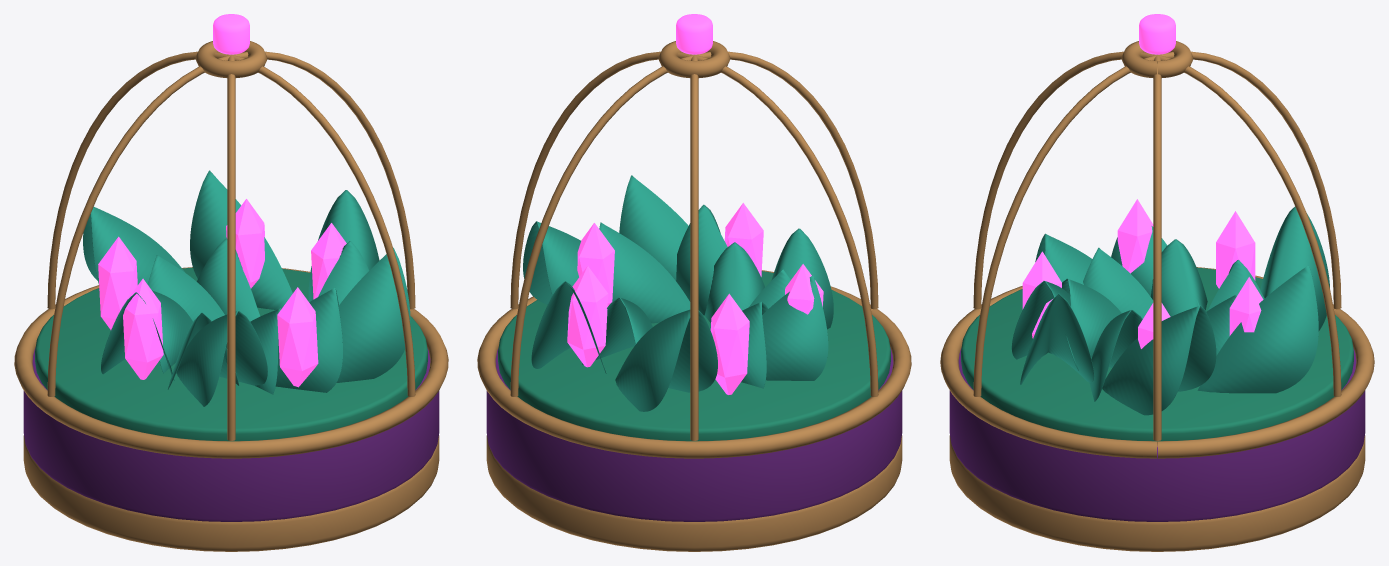
The model's file is terrarium.glb.
3 renders of one model, left to right at view 1: azimuth 30°, elevation 25°; view 2: azimuth 150°, elevation 25°; view 3: azimuth 270°, elevation 25°, orthographic.
Visible parts, largest first — view 1: Plum bowl, Moss bed, Terrarium foot, Bowl rim, Terrarium frond.002, Terrarium frond.004, Terrarium frond.008, Dome brass rib.004, Dome brass rib.003, Dome brass rib.005, Terrarium frond.011, Glowing rose crystal.002 (+17 smaller); view 2: Plum bowl, Moss bed, Terrarium foot, Bowl rim, Terrarium frond.011, Terrarium frond.001, Terrarium frond.010, Terrarium frond.002, Dome brass rib.002, Dome brass rib.001, Dome brass rib.003, Glowing rose crystal.003 (+16 smaller); view 3: Plum bowl, Moss bed, Terrarium foot, Bowl rim, Terrarium frond.008, Terrarium frond.005, Dome brass rib, Dome brass rib.001, Dome brass rib.005, Terrarium frond.002, Terrarium frond.011, Dome brass rib.002 (+17 smaller).
Part boxes in pixels (x1=…): Plum bowl: x1=23, y1=347, x2=439, y2=521; Moss bed: x1=35, y1=267, x2=427, y2=441; Terrarium foot: x1=23, y1=435, x2=439, y2=551; Bowl rim: x1=14, y1=267, x2=448, y2=458; Terrarium frond.002: x1=336, y1=247, x2=410, y2=382; Terrarium frond.004: x1=176, y1=310, x2=267, y2=406; Terrarium frond.008: x1=190, y1=170, x2=292, y2=309; Dome brass rib.004: x1=227, y1=55, x2=235, y2=440; Dome brass rib.003: x1=47, y1=55, x2=230, y2=396; Dome brass rib.005: x1=232, y1=55, x2=415, y2=396; Terrarium frond.011: x1=83, y1=207, x2=184, y2=284; Glowing rose crystal.002: x1=277, y1=287, x2=318, y2=387; Plum bowl: x1=486, y1=347, x2=902, y2=521; Moss bed: x1=498, y1=271, x2=890, y2=441; Terrarium foot: x1=486, y1=435, x2=902, y2=551; Bowl rim: x1=477, y1=270, x2=911, y2=458; Terrarium frond.011: x1=615, y1=309, x2=717, y2=411; Terrarium frond.001: x1=762, y1=275, x2=828, y2=380; Terrarium frond.010: x1=599, y1=222, x2=690, y2=323; Terrarium frond.002: x1=619, y1=175, x2=688, y2=280; Dome brass rib.002: x1=690, y1=55, x2=698, y2=440; Dome brass rib.001: x1=510, y1=55, x2=693, y2=396; Dome brass rib.003: x1=695, y1=55, x2=878, y2=396; Glowing rose crystal.003: x1=567, y1=266, x2=608, y2=367; Plum bowl: x1=949, y1=348, x2=1365, y2=521; Moss bed: x1=961, y1=267, x2=1353, y2=441; Terrarium foot: x1=949, y1=435, x2=1365, y2=551; Bowl rim: x1=940, y1=267, x2=1374, y2=458; Terrarium frond.008: x1=1197, y1=265, x2=1318, y2=393; Terrarium frond.005: x1=1102, y1=305, x2=1216, y2=415; Dome brass rib: x1=1153, y1=55, x2=1161, y2=440; Dome brass rib.001: x1=1158, y1=55, x2=1341, y2=396; Dome brass rib.005: x1=973, y1=55, x2=1156, y2=396; Terrarium frond.002: x1=1020, y1=294, x2=1094, y2=385; Terrarium frond.011: x1=1260, y1=206, x2=1329, y2=331; Dome brass rib.002: x1=1158, y1=51, x2=1341, y2=309.
Bounding box in the file's own units: 0.3962 × 0.45 × 0.3963.
